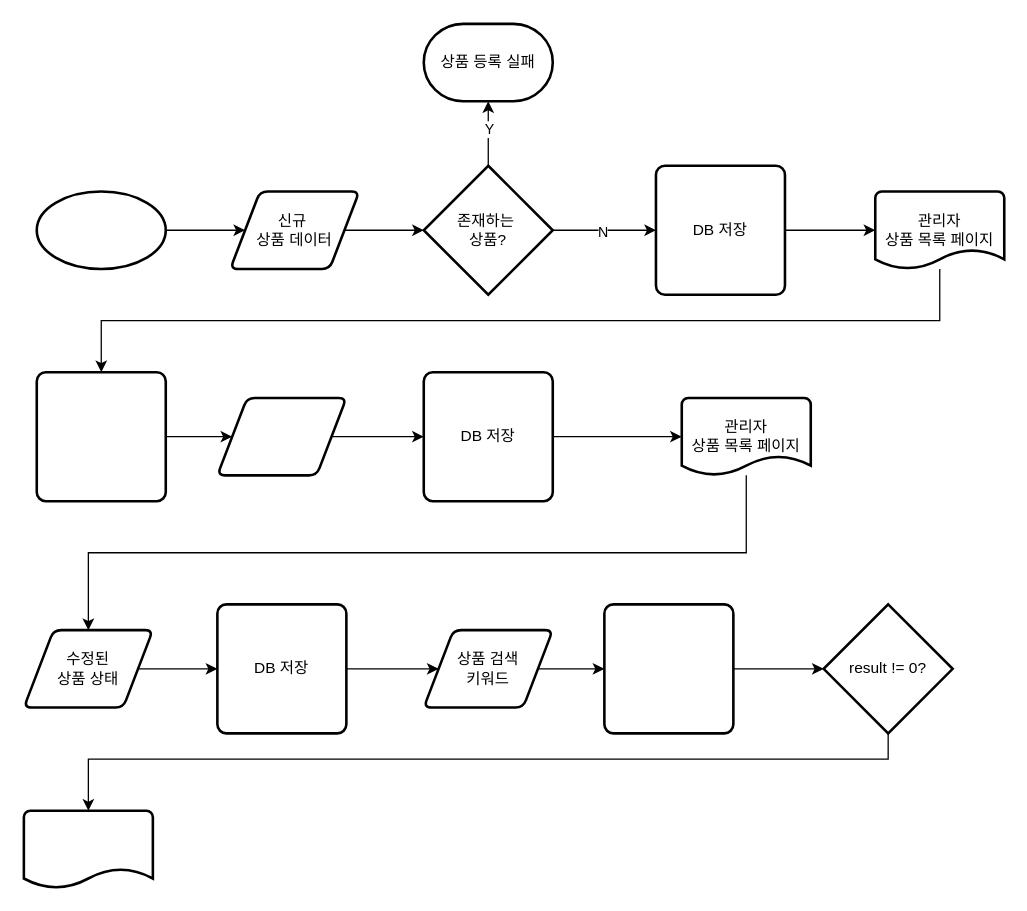
This 1027x911 diagram has some shape labels left out. The centre of each missing label's shape, as x and y in pixels:
DB 조회: (x=668, y=668)
검색 결과 페이지: (x=88, y=849)
관리자 상품 등록 페이지 접속: (x=100, y=230)
관리자 상품 수정 페이지 접속: (x=100, y=436)
수정된 상품 데이터: (x=281, y=436)
